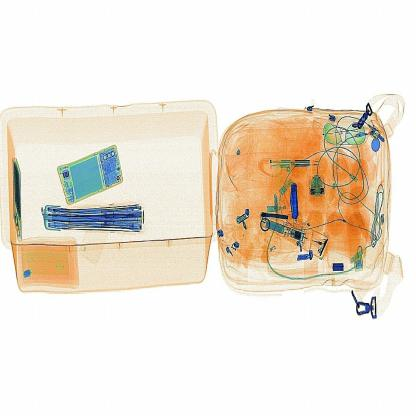knife: (284, 170, 308, 222)
